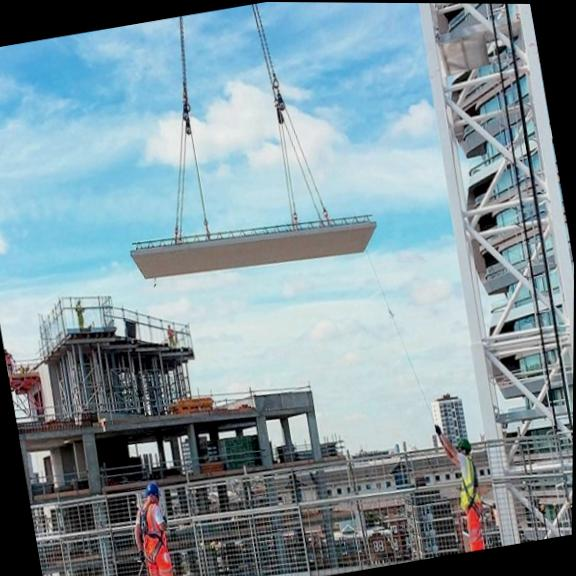safety_vest: (126, 500, 175, 568), (447, 457, 482, 511)
